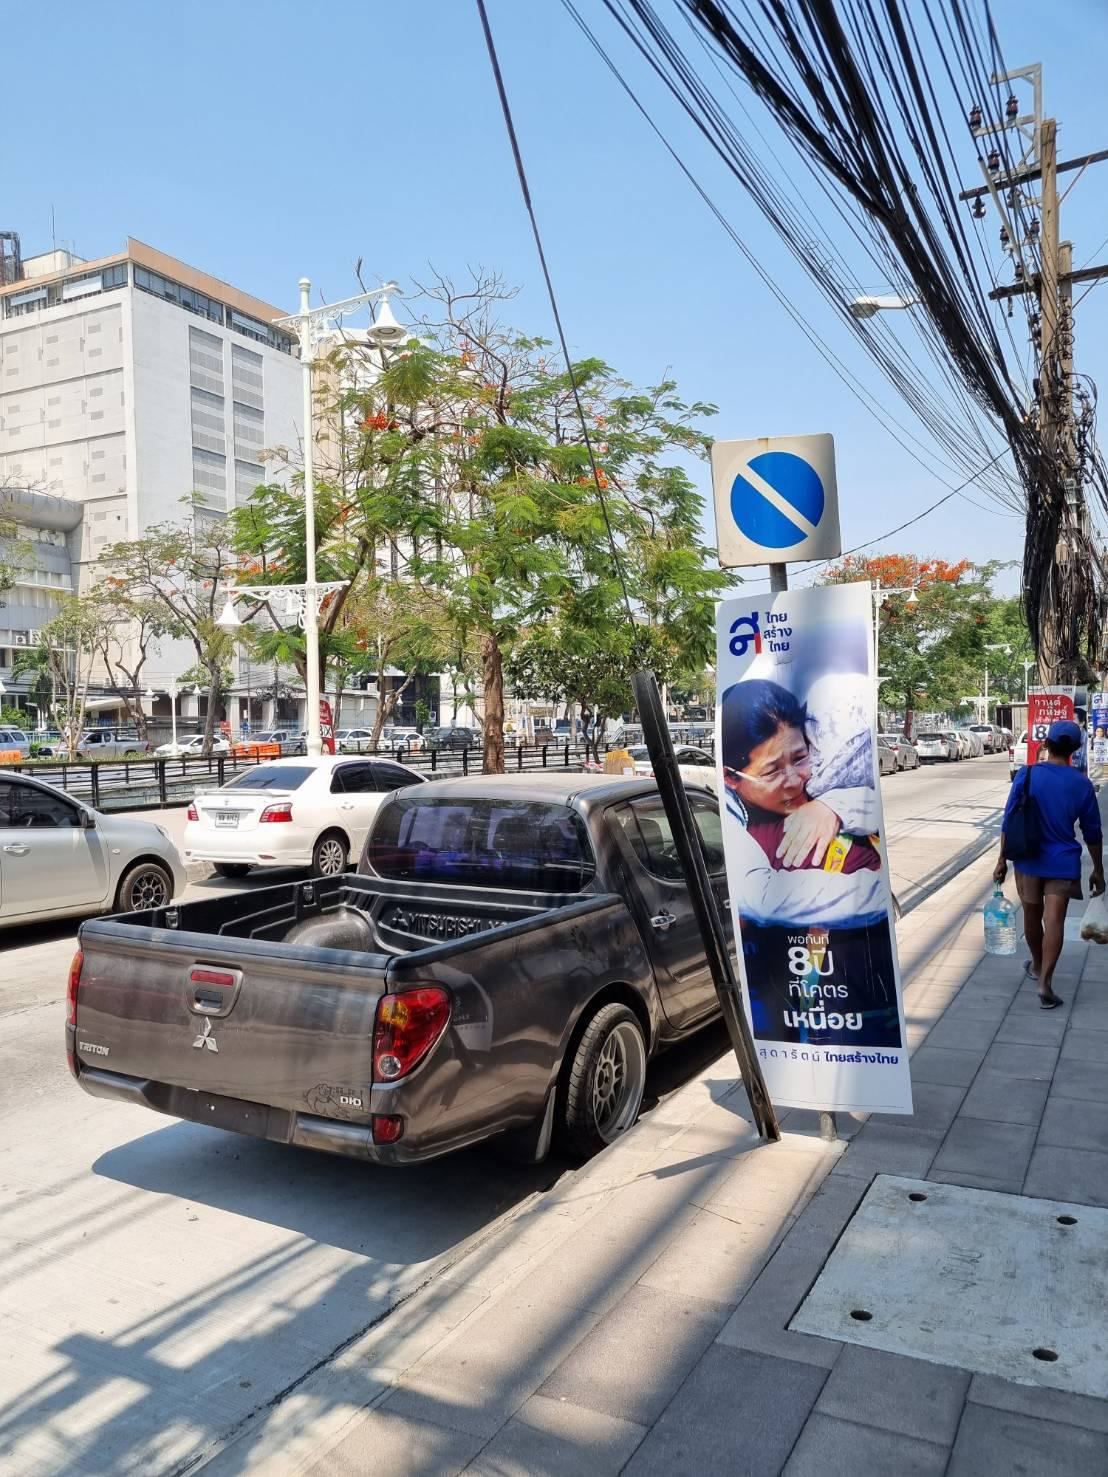Banner: (696, 580, 925, 1119)
